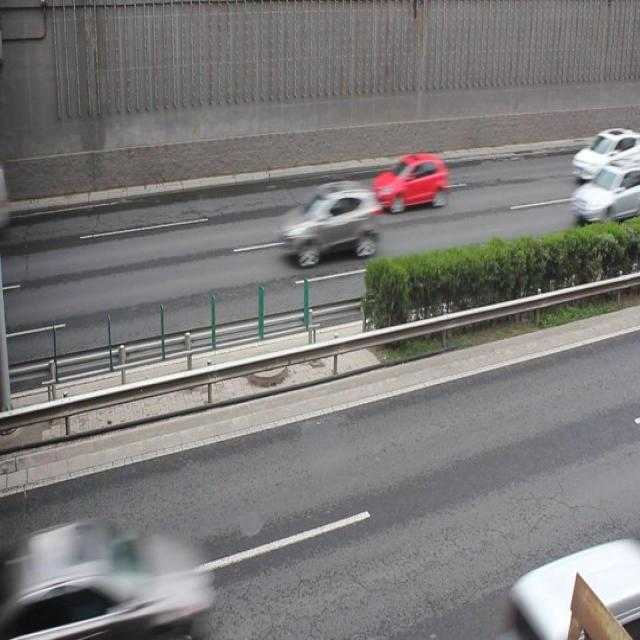car: (0, 518, 206, 640), (280, 180, 376, 264), (568, 155, 640, 227), (372, 154, 446, 213), (571, 127, 640, 182)
truck: (508, 534, 640, 640)
